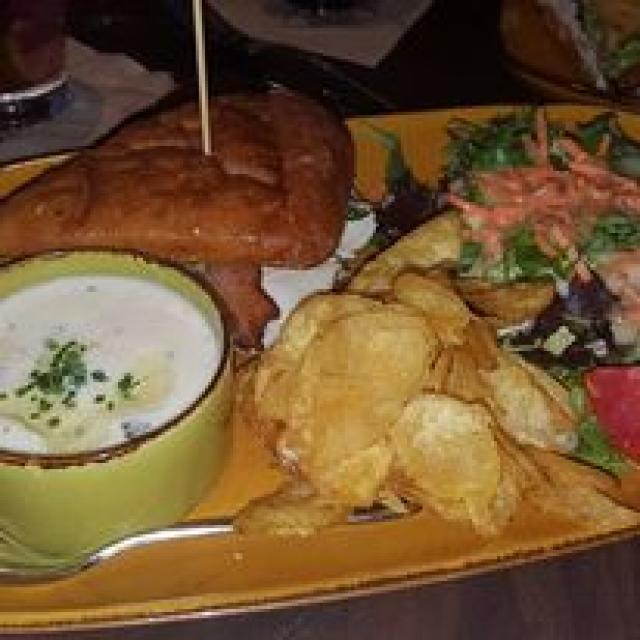Sandwich: (22, 71, 376, 317)
